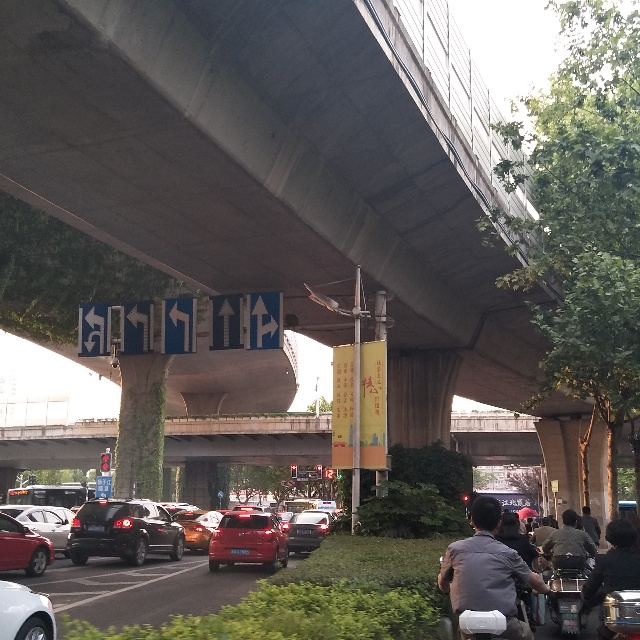left: (121, 302, 153, 355), (166, 294, 195, 352)
straight: (210, 292, 242, 348)
